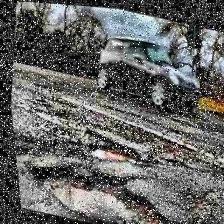pothole: (22, 156, 176, 224), (80, 132, 142, 168)
